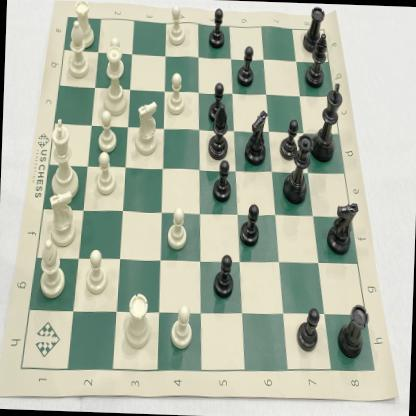bishop: (38, 240, 67, 300), (66, 20, 92, 82), (304, 31, 330, 90), (208, 103, 230, 162)
king: (310, 80, 346, 164), (48, 116, 83, 200)
knight: (327, 198, 359, 256), (46, 191, 78, 248), (243, 108, 270, 166), (134, 100, 160, 160)
pawn: (295, 306, 322, 355), (169, 302, 194, 352), (212, 251, 236, 303), (85, 250, 109, 296), (166, 205, 189, 253), (94, 152, 118, 197), (239, 202, 261, 250), (165, 71, 187, 118), (278, 118, 300, 163), (235, 43, 256, 90), (212, 159, 233, 205), (98, 108, 119, 154), (167, 2, 188, 48), (207, 80, 227, 126), (107, 36, 126, 82), (208, 6, 227, 50)
queen: (100, 46, 132, 116), (282, 134, 312, 206)
rook: (338, 302, 370, 360), (124, 291, 154, 352), (73, 0, 97, 51), (302, 4, 327, 52)
